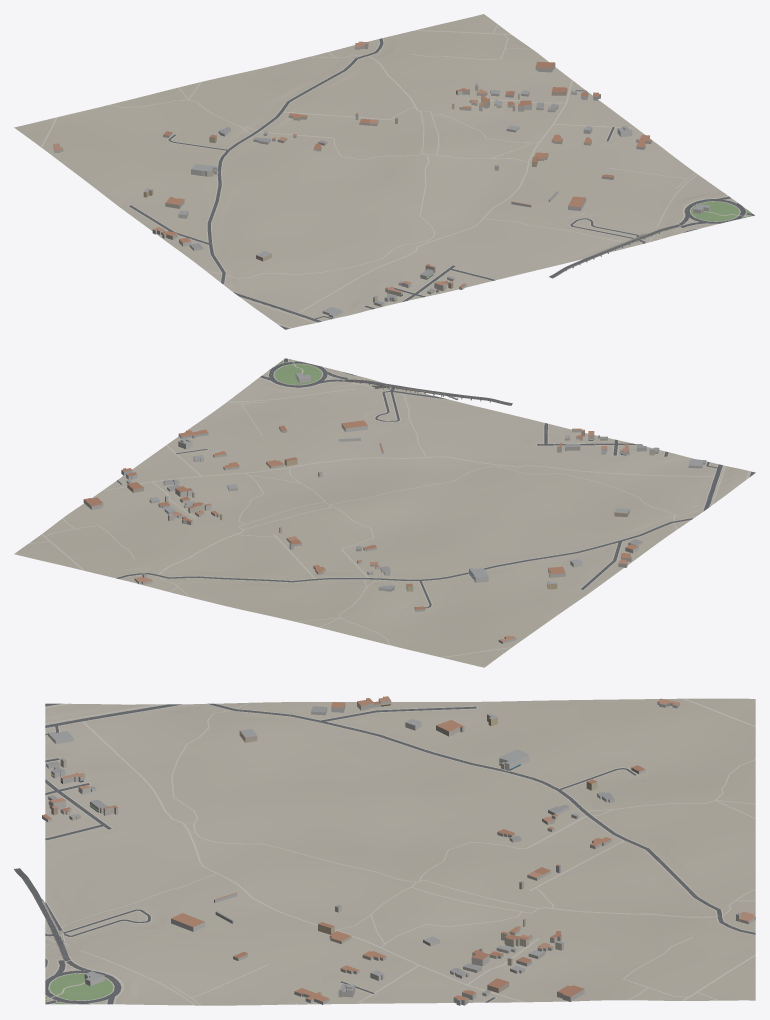
The picture shows the model from 3 angles, top to bottom: view 1: azimuth 30°, elevation 25°; view 2: azimuth 150°, elevation 25°; view 3: azimuth 270°, elevation 25°; orthographic projection. The views are drawn at different scales.
Visible parts, largest first — view 1: Ground, Sidewalk, Walls, Roofs, Road, Park; view 2: Ground, Sidewalk, Walls, Roofs, Road, Park, Struct; view 3: Ground, Sidewalk, Walls, Roofs, Road, Park, Deck.
Part boxes in pixels (x1,y1,x2,y2): Ground: (14, 14, 748, 328); Sidewalk: (41, 24, 752, 328); Walls: (53, 43, 710, 317); Roofs: (53, 41, 710, 315); Road: (129, 38, 754, 329); Park: (691, 201, 751, 221); Ground: (14, 360, 750, 667); Sidewalk: (28, 359, 751, 657); Walls: (83, 374, 706, 643); Roofs: (84, 373, 705, 641); Road: (116, 358, 755, 608); Park: (274, 359, 321, 384); Struct: (342, 379, 512, 405); Ground: (45, 698, 755, 1005); Sidewalk: (45, 698, 755, 1005); Walls: (42, 697, 755, 1005); Roofs: (42, 696, 755, 1001); Road: (45, 703, 755, 1004); Park: (45, 973, 113, 1004); Deck: (15, 868, 70, 961).
Bounding box in the file's own units: 1012 × 21.27 × 1045.
